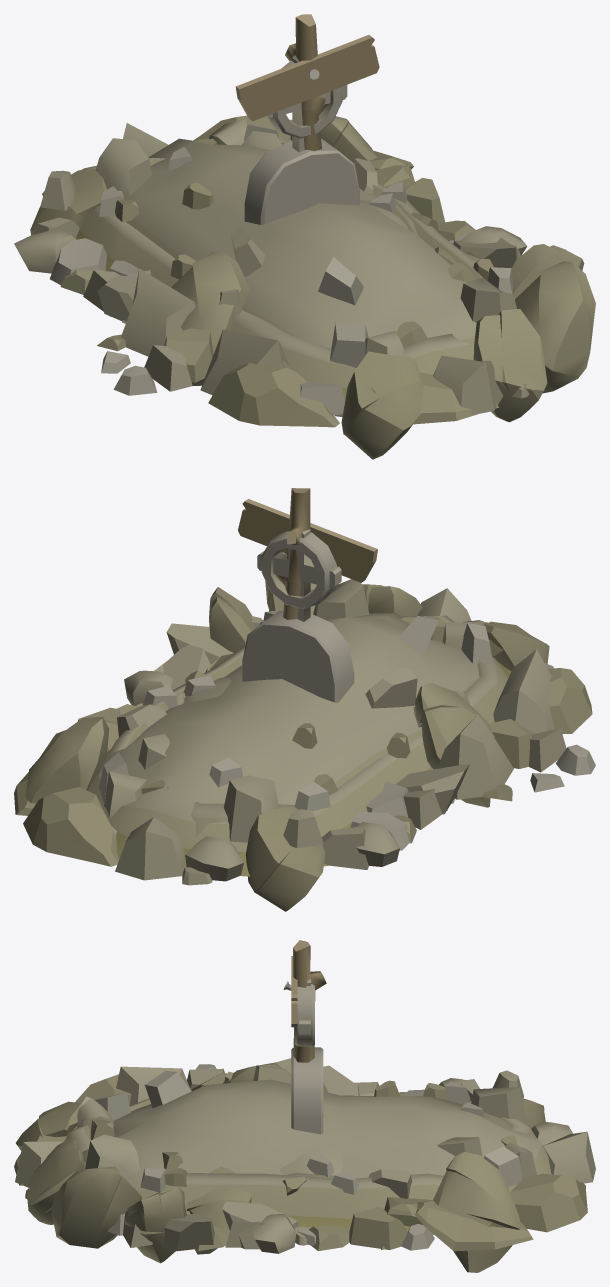
The model's file is Grave.fbx.
3 renders of one model, top to bottom at view 1: azimuth 30°, elevation 25°; view 2: azimuth 150°, elevation 25°; view 3: azimuth 270°, elevation 25°, orthographic. The views are drawn at different scales.
Parts seen in each view (by area): view 1: GraveClose, GraveOpen, GraveCloseSmall, Grave_TombStone, Grave_TombWood_Board, GraveOpenSmall, Grave_TombWood_Stick, Grave_TombStone_Cross; view 2: GraveClose, GraveOpen, Grave_TombStone, GraveCloseSmall, Grave_TombStone_Cross, GraveOpenSmall, Grave_TombWood_Board, Grave_TombWood_Stick; view 3: GraveClose, GraveOpen, GraveCloseSmall, Grave_TombStone, Grave_TombWood_Stick, Grave_TombStone_Cross, GraveOpenSmall.
Part boxes in pixels (x1=…): GraveClose: x1=14, y1=115, x2=566, y2=424; GraveOpen: x1=34, y1=123, x2=595, y2=459; GraveCloseSmall: x1=97, y1=165, x2=527, y2=391; Grave_TombStone: x1=244, y1=138, x2=359, y2=224; Grave_TombWood_Board: x1=235, y1=35, x2=379, y2=121; GraveOpenSmall: x1=98, y1=203, x2=418, y2=395; Grave_TombWood_Stick: x1=285, y1=14, x2=328, y2=151; Grave_TombStone_Cross: x1=267, y1=55, x2=347, y2=152; GraveClose: x1=23, y1=579, x2=554, y2=911; GraveOpen: x1=14, y1=581, x2=592, y2=881; Grave_TombStone: x1=242, y1=610, x2=354, y2=702; GraveCloseSmall: x1=105, y1=653, x2=590, y2=814; Grave_TombStone_Cross: x1=257, y1=529, x2=341, y2=621; GraveOpenSmall: x1=176, y1=679, x2=595, y2=807; Grave_TombWood_Board: x1=238, y1=499, x2=377, y2=582; Grave_TombWood_Stick: x1=266, y1=488, x2=310, y2=679; GraveClose: x1=14, y1=1065, x2=595, y2=1272; GraveOpen: x1=15, y1=1058, x2=572, y2=1263; GraveCloseSmall: x1=107, y1=1064, x2=430, y2=1254; Grave_TombStone: x1=291, y1=1047, x2=323, y2=1134; Grave_TombWood_Stick: x1=293, y1=940, x2=326, y2=1116; Grave_TombStone_Cross: x1=294, y1=978, x2=315, y2=1046; GraveOpenSmall: x1=187, y1=1062, x2=351, y2=1177.
Bounding box in the file's own units: 199 × 140 × 268.
